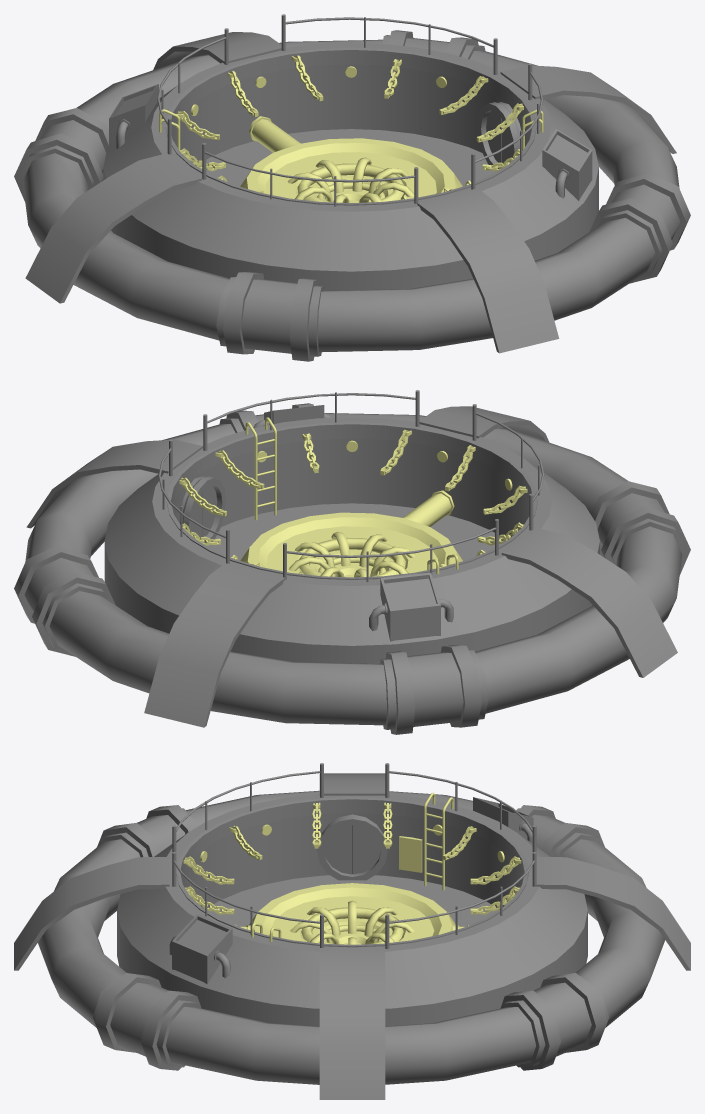
File: factory.FBX
3 renders of one model, top to bottom at view 1: azimuth 30°, elevation 25°; view 2: azimuth 150°, elevation 25°; view 3: azimuth 270°, elevation 25°, orthographic. The views are drawn at different scales.
Parts seen in each view (by area): view 1: factory cover1, factory_cover2_1; view 2: factory cover1, factory_cover2_1; view 3: factory cover1, factory_cover2_1.
Part boxes in pixels (x1,y1,x2,y2): factory cover1: (14,14,690,361); factory_cover2_1: (159,55,543,202); factory cover1: (14,390,690,734); factory_cover2_1: (179,417,527,577); factory cover1: (14,763,690,1099); factory_cover2_1: (183,792,521,944).
Bounding box in the file's own units: 1116 × 1116 × 247.
